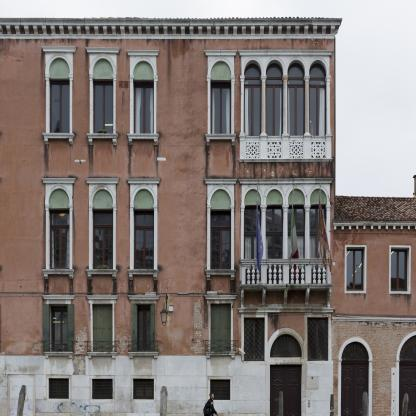Balcony: (240, 259, 333, 289)
Building Outline: (0, 17, 416, 416)
Cornice: (238, 50, 333, 57), (238, 178, 334, 184), (332, 317, 416, 323), (238, 308, 335, 313), (85, 47, 120, 54), (41, 46, 76, 53), (204, 50, 237, 57), (41, 178, 76, 184), (85, 178, 120, 184), (126, 50, 160, 56), (127, 178, 161, 184), (204, 179, 237, 185), (204, 295, 237, 300), (128, 296, 161, 300), (42, 296, 75, 300), (86, 296, 119, 300)
Deco: (49, 57, 70, 78), (48, 188, 70, 208), (92, 58, 114, 78), (210, 60, 231, 80), (210, 189, 231, 209), (92, 189, 113, 208), (134, 189, 154, 208), (133, 60, 154, 78), (310, 188, 327, 205), (244, 189, 262, 205), (266, 189, 283, 205), (288, 189, 305, 205), (307, 376, 319, 389), (327, 288, 332, 308), (305, 288, 310, 307), (284, 288, 288, 307), (262, 289, 266, 307), (241, 289, 244, 308)
Door: (270, 364, 302, 416), (341, 361, 369, 416), (244, 232, 262, 284), (399, 361, 416, 416), (310, 232, 327, 284), (266, 232, 283, 284), (288, 232, 305, 284)
Facade: (1, 17, 416, 416)
Floor: (0, 163, 335, 289), (0, 289, 335, 363)
Floor Slab: (0, 284, 335, 289), (0, 358, 335, 363), (0, 159, 333, 164), (332, 322, 416, 327)
Ground Floor: (0, 363, 335, 415), (332, 322, 416, 416)
Molding: (0, 24, 335, 35), (332, 223, 416, 230)
Pillar: (304, 205, 311, 284), (260, 205, 267, 284), (282, 205, 289, 284), (325, 205, 331, 284), (260, 75, 267, 135), (240, 205, 245, 284), (304, 75, 310, 135), (282, 75, 288, 135), (325, 75, 331, 135), (239, 75, 245, 135)
Roof: (334, 195, 416, 220)
Sill: (238, 158, 334, 163), (86, 133, 119, 145), (126, 133, 159, 145), (42, 133, 75, 145), (205, 134, 236, 146), (85, 269, 118, 280), (127, 269, 159, 280), (42, 269, 74, 280), (205, 269, 236, 280), (206, 351, 236, 360), (128, 352, 159, 359), (43, 352, 73, 359), (87, 352, 117, 359)
Top Floor: (0, 38, 335, 163), (332, 231, 416, 327)
Window: (309, 60, 327, 136), (266, 60, 284, 136), (287, 60, 305, 136), (244, 60, 262, 135), (48, 208, 70, 269), (133, 208, 154, 269), (93, 208, 114, 269), (210, 209, 231, 270), (49, 78, 70, 133), (133, 80, 154, 134), (93, 79, 114, 133), (210, 80, 231, 134), (134, 304, 154, 352), (49, 304, 69, 352), (93, 304, 113, 352), (211, 303, 231, 351), (308, 317, 328, 361), (244, 317, 264, 361), (347, 247, 365, 291), (391, 248, 409, 291), (270, 333, 302, 357), (341, 341, 369, 361), (309, 205, 327, 232), (244, 205, 261, 232), (266, 205, 283, 232), (288, 205, 305, 232), (399, 335, 416, 360), (210, 379, 230, 400), (49, 378, 69, 399), (133, 379, 154, 399), (93, 379, 113, 399)
